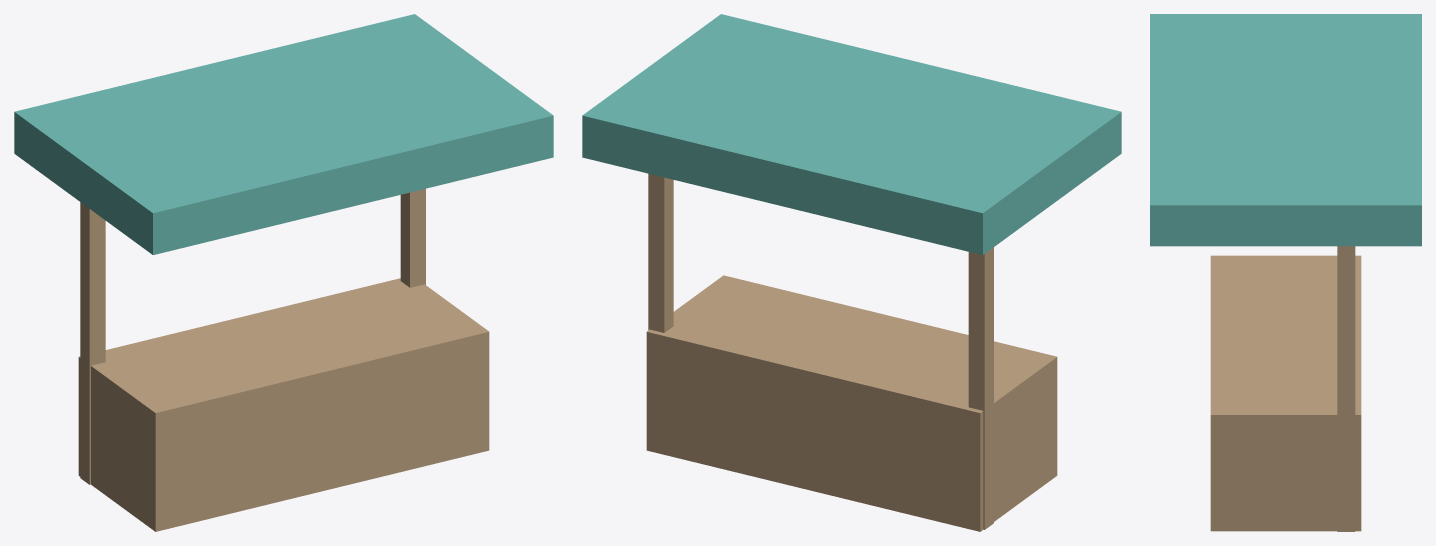
Rendered from voxel-city-districts-market-stall-2214718c__24875.glb.
The picture shows the model from 3 angles, left to right: view 1: azimuth 30°, elevation 25°; view 2: azimuth 150°, elevation 25°; view 3: azimuth 270°, elevation 25°; orthographic projection. The views are drawn at different scales.
Parts seen in each view (by area): view 1: market-stall-wood, market-stall-accent; view 2: market-stall-wood, market-stall-accent; view 3: market-stall-accent, market-stall-wood.
Part boxes in pixels (x1,y1,x2,y2): market-stall-wood: (78,188,489,531); market-stall-accent: (14,14,553,254); market-stall-wood: (646,173,1057,531); market-stall-accent: (582,14,1121,254); market-stall-accent: (1150,14,1421,246); market-stall-wood: (1210,246,1361,531).
Bounding box in the file's own units: 3 × 2.5 × 1.8.
